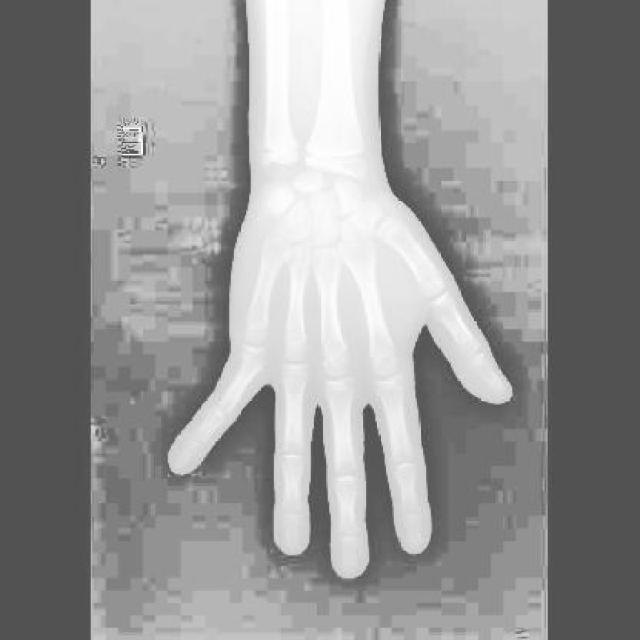Fracture: (241, 350, 274, 373)
